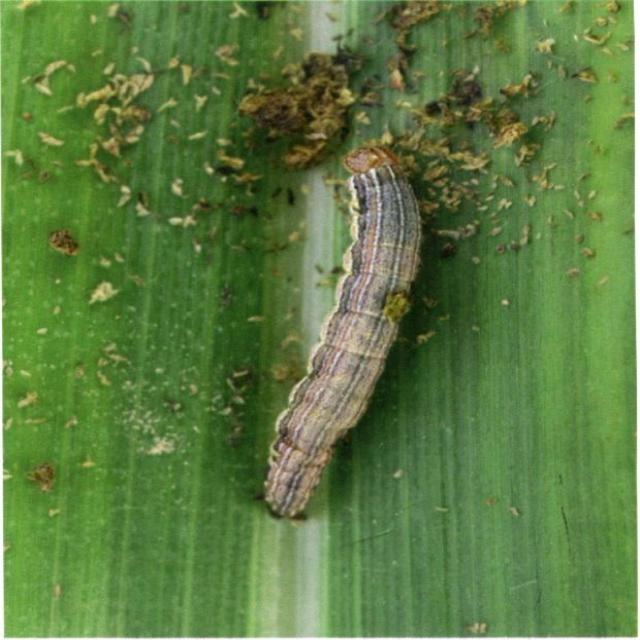army worm: (257, 144, 426, 526)
